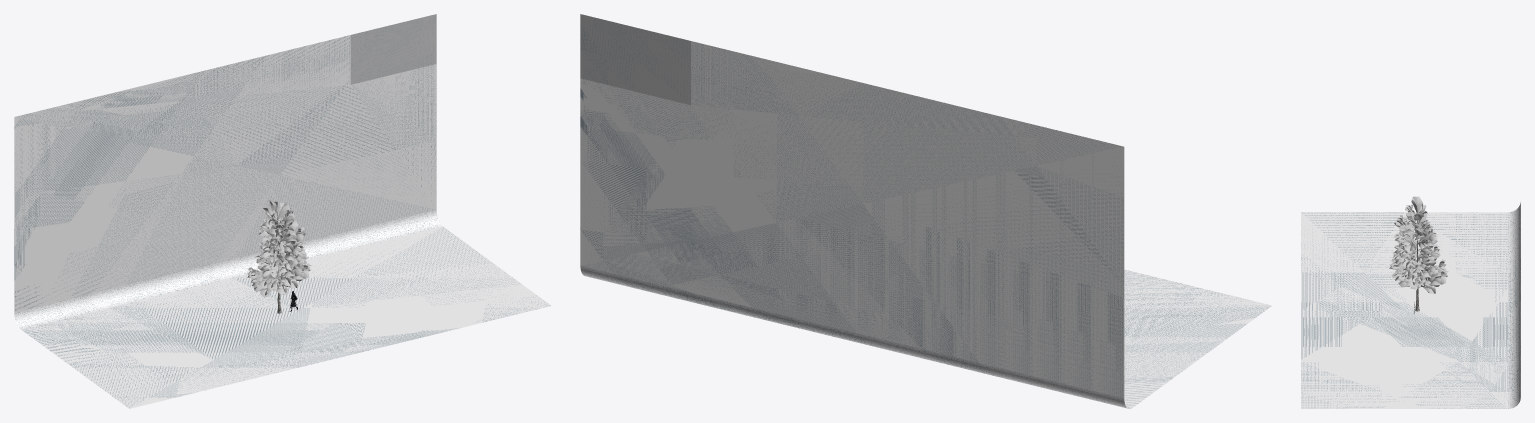
3 views of the same model, side by side, from view 1: azimuth 30°, elevation 25°; view 2: azimuth 150°, elevation 25°; view 3: azimuth 270°, elevation 25° (orthographic). The views are drawn at different scales.
Visible parts, largest first — view 1: group_0 (×2); view 2: group_0 (×2); view 3: group_0.
Part boxes in pixels (x1,y1,x2,y2): group_0 (×2): [14, 14, 551, 408]; group_0 (×2): [580, 14, 1271, 408]; group_0: [1301, 202, 1520, 408].
Size of the model in its own units: 1417 by 669 by 667.
